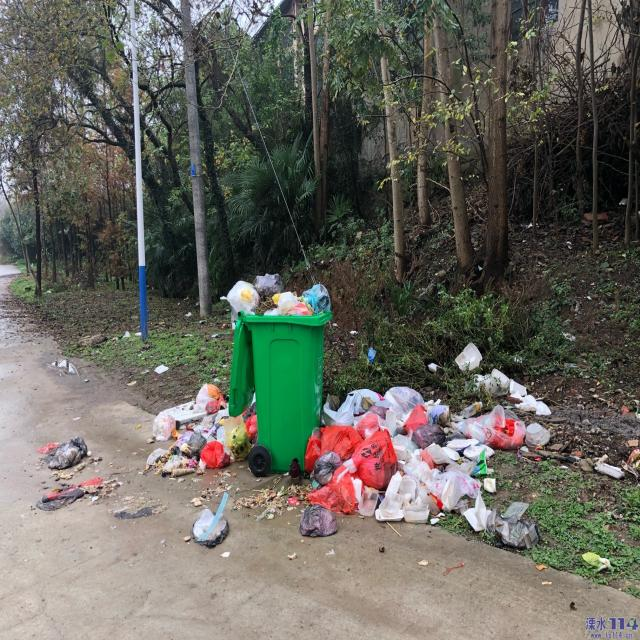garbage: (36, 343, 550, 546)
overflow: (226, 272, 333, 471)
